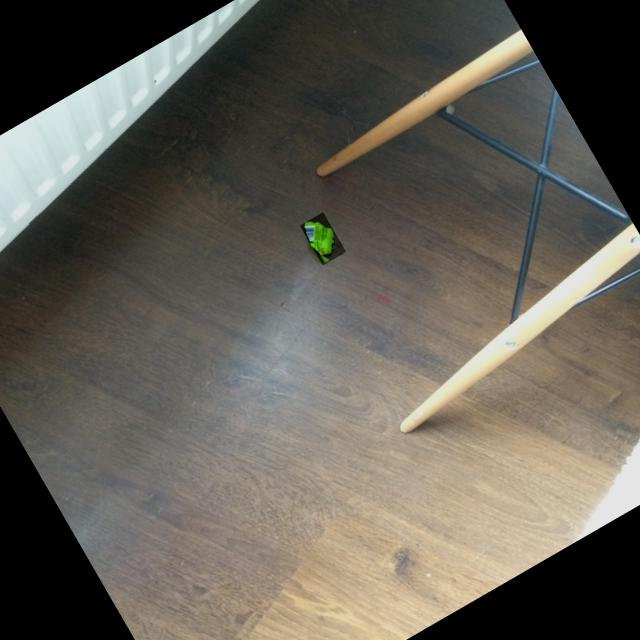Other plastic: (305, 222, 335, 263)
